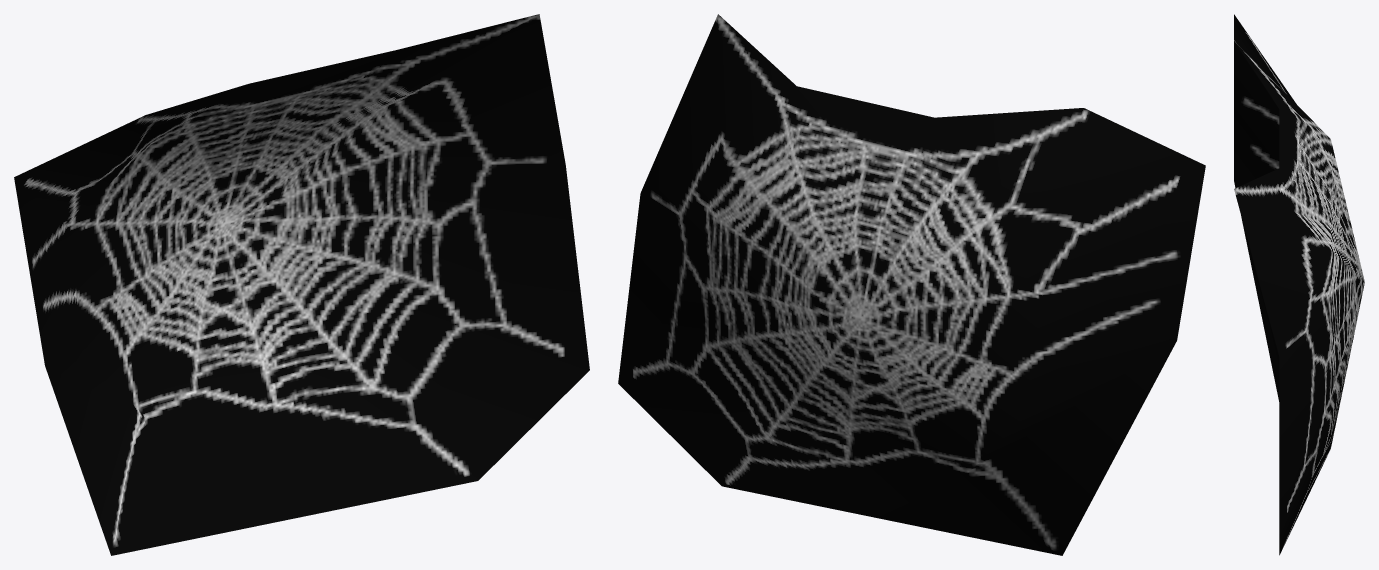
File: SM_Cobwebs_04.fbx
3 renders of one model, left to right at view 1: azimuth 30°, elevation 25°; view 2: azimuth 150°, elevation 25°; view 3: azimuth 270°, elevation 25°, orthographic. The views are drawn at different scales.
Visible parts, largest first — view 1: SM_Cobwebs_04; view 2: SM_Cobwebs_04; view 3: SM_Cobwebs_04.
Boxes of the visible parts, x1,y1,x2,y2 form: SM_Cobwebs_04: (14, 14, 589, 555); SM_Cobwebs_04: (618, 14, 1205, 555); SM_Cobwebs_04: (1234, 14, 1364, 555).
Bounding box in the file's own units: 79.14 × 60.04 × 18.77.
1 material, 1 textured.
